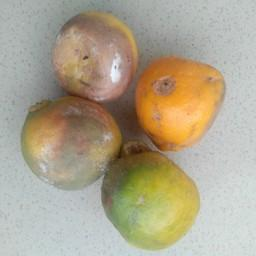Bad_orange: (18, 96, 122, 191), (134, 53, 227, 151), (101, 150, 195, 244), (50, 10, 138, 101)
